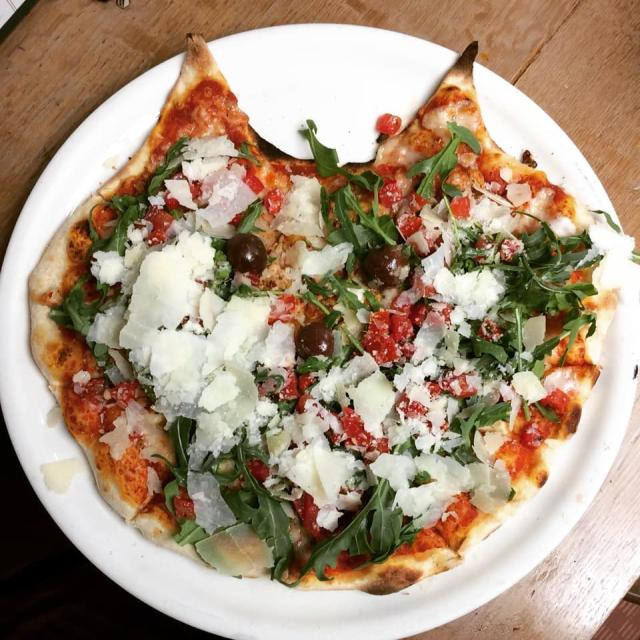black_olives: (358, 242, 411, 290), (292, 320, 338, 366), (223, 232, 270, 276)
pizza: (31, 35, 630, 595)
